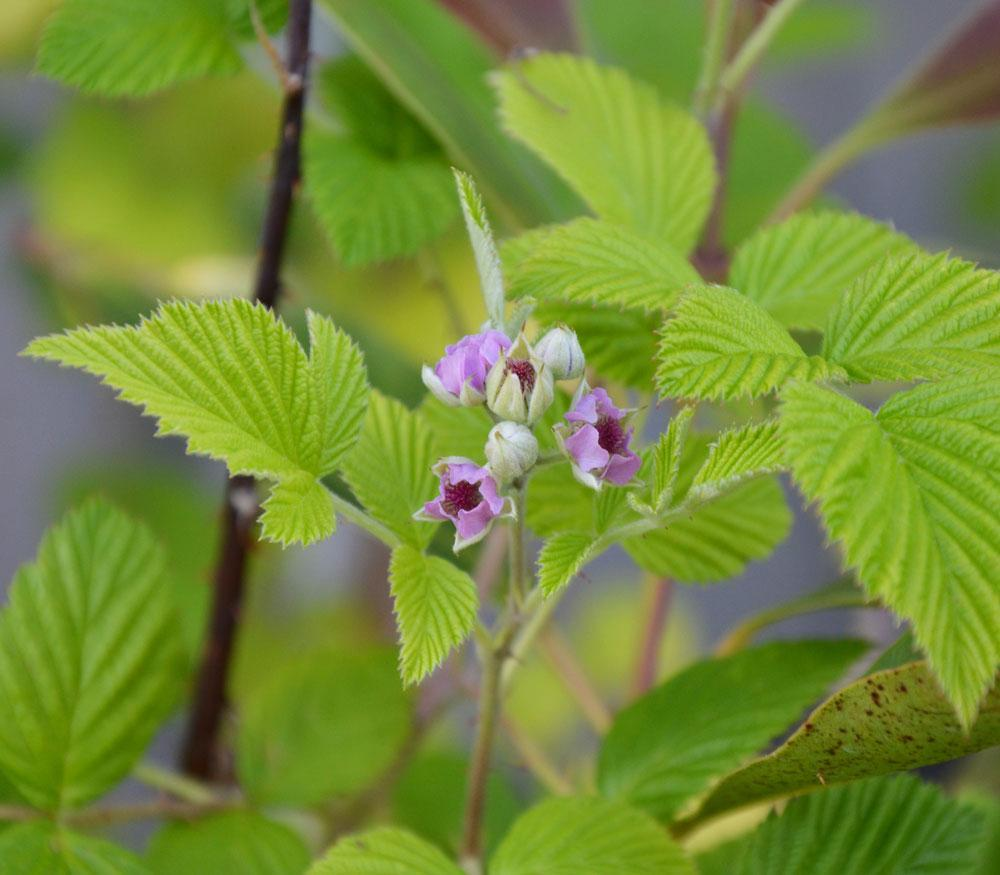Raspberry leaf: (772, 376, 1000, 732), (15, 291, 330, 484), (494, 43, 728, 256)
